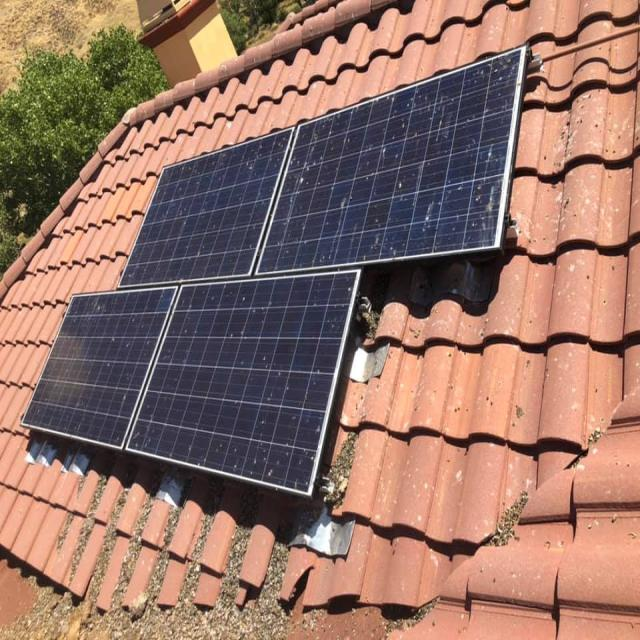dust-solar-panel: (20, 44, 527, 495)
